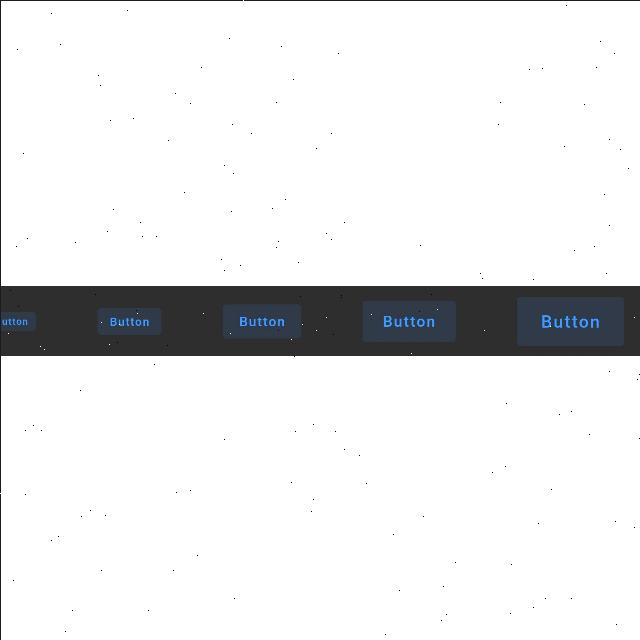QLabel: (537, 314, 601, 328), (380, 315, 436, 327), (236, 316, 284, 326), (108, 316, 148, 326), (1, 316, 26, 326)
VBtn: (514, 294, 626, 348), (360, 298, 456, 344), (220, 302, 302, 340), (95, 308, 161, 336), (0, 310, 36, 330)
